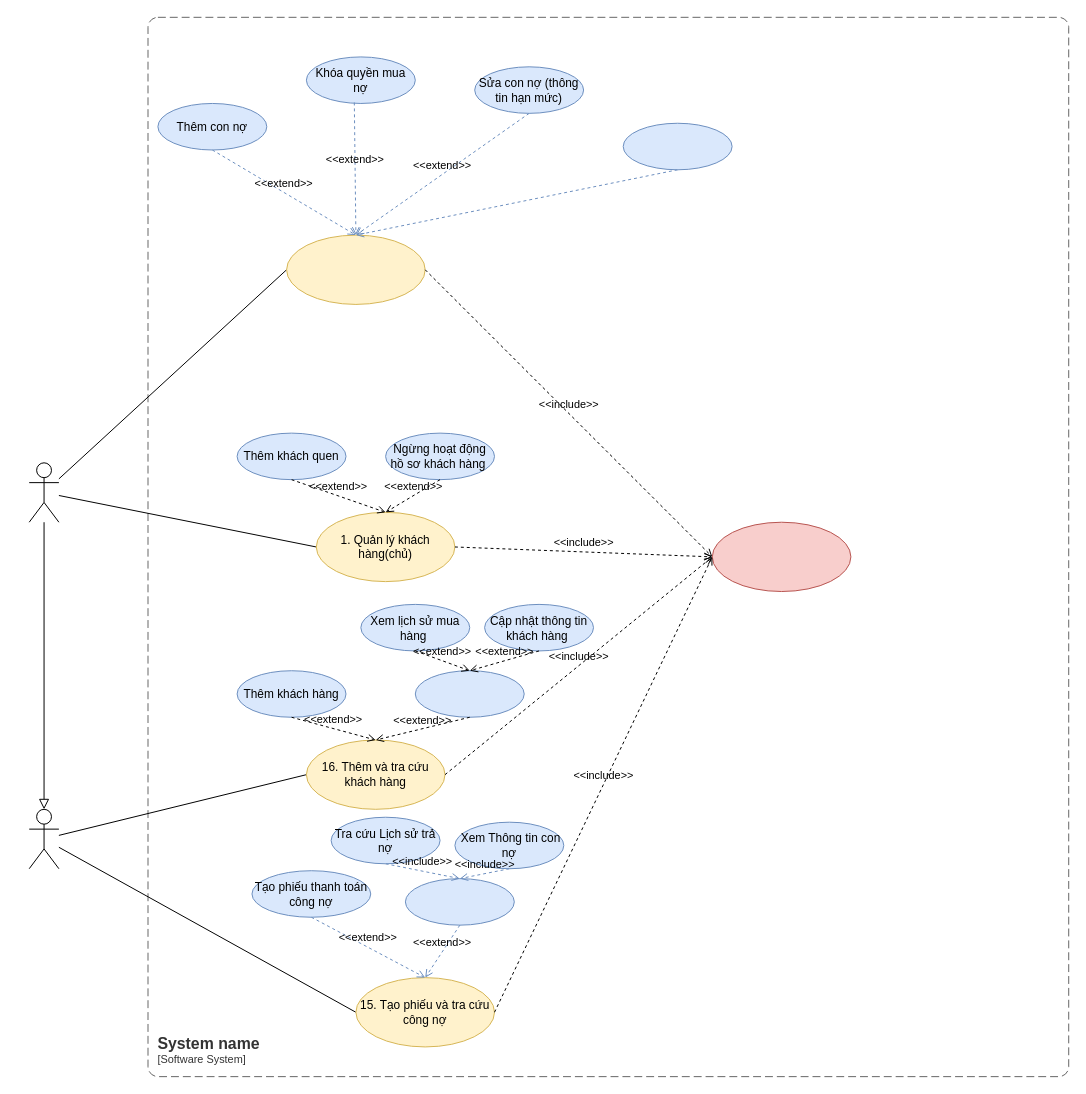
The diagram is 1086 pixels wide and 1094 high, and some of its shapes have lost their labels. The centre of each missing label's shape, as x and y in pixels:
"4. Quản lý công nợ(chủ cửa hàng)" belongs at point (355, 269).
"Chủ quán" belongs at point (43, 492).
"Nhân viên" belongs at point (43, 838).
"Tra cứu danh sách công nợ" belongs at point (459, 901).
"Tìm kiếm khách hàng" belongs at point (469, 693).
"Xóa con nợ" belongs at point (677, 146).
"Đăng nhập" belongs at point (781, 556).
